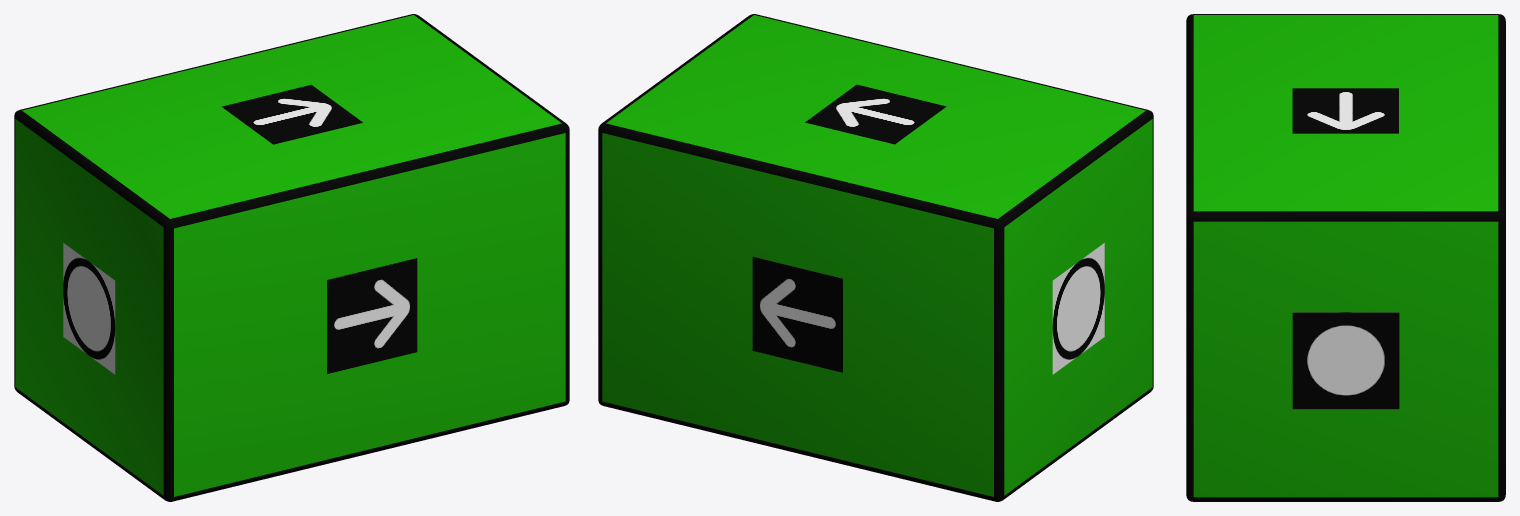
The model's file is BigBoxTapFlowBox_2_2_3_Line.fbx.
The picture shows the model from 3 angles, left to right: view 1: azimuth 30°, elevation 25°; view 2: azimuth 150°, elevation 25°; view 3: azimuth 270°, elevation 25°; orthographic projection. The views are drawn at different scales.
Visible parts, largest first — view 1: BigBoxTapFlowBox_2_2_3; view 2: BigBoxTapFlowBox_2_2_3; view 3: BigBoxTapFlowBox_2_2_3.
Part boxes in pixels (<box>): BigBoxTapFlowBox_2_2_3: <box>14,14,569,501</box>; BigBoxTapFlowBox_2_2_3: <box>598,14,1153,501</box>; BigBoxTapFlowBox_2_2_3: <box>1186,14,1505,501</box>.
Size of the model in its own units: 3.15 by 2.15 by 2.12.
1 material, 1 textured.
